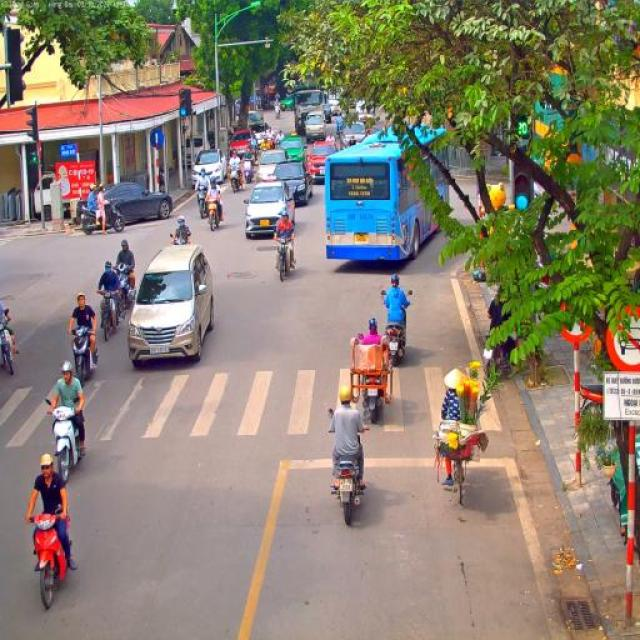bus: (324, 125, 480, 261)
car: (126, 242, 215, 369), (244, 175, 296, 240), (96, 181, 174, 224), (273, 159, 313, 207), (305, 140, 340, 184), (192, 148, 226, 188), (256, 148, 290, 183), (276, 135, 308, 164), (340, 117, 366, 148), (227, 129, 252, 161), (305, 110, 326, 142), (247, 122, 268, 144), (353, 105, 372, 126), (246, 110, 263, 126), (280, 94, 294, 112), (328, 99, 342, 116), (322, 102, 332, 124)
motorcycle: (24, 506, 72, 610), (327, 408, 369, 526), (45, 398, 86, 487), (380, 289, 412, 367), (68, 323, 100, 386), (97, 286, 125, 342), (80, 200, 126, 234), (359, 372, 387, 423), (0, 310, 18, 376), (113, 262, 137, 310), (273, 234, 297, 280), (205, 192, 224, 232), (193, 181, 208, 219), (227, 164, 243, 193), (242, 158, 254, 183), (170, 233, 188, 246), (250, 144, 259, 167), (336, 121, 343, 138), (260, 139, 270, 150), (274, 104, 280, 118)
truck: (293, 84, 326, 136)
